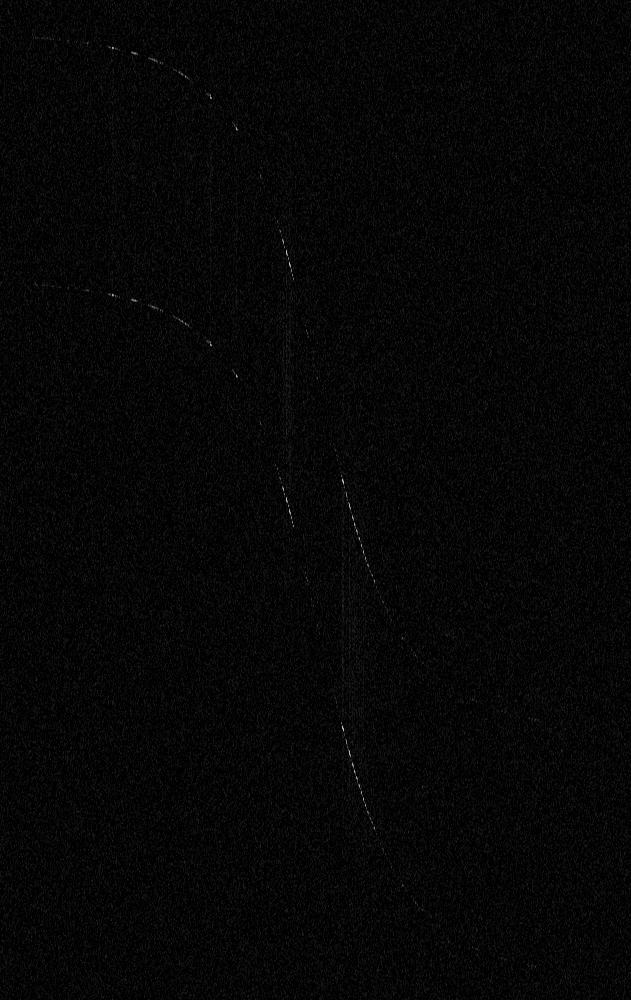signal: (0, 0, 630, 999)
